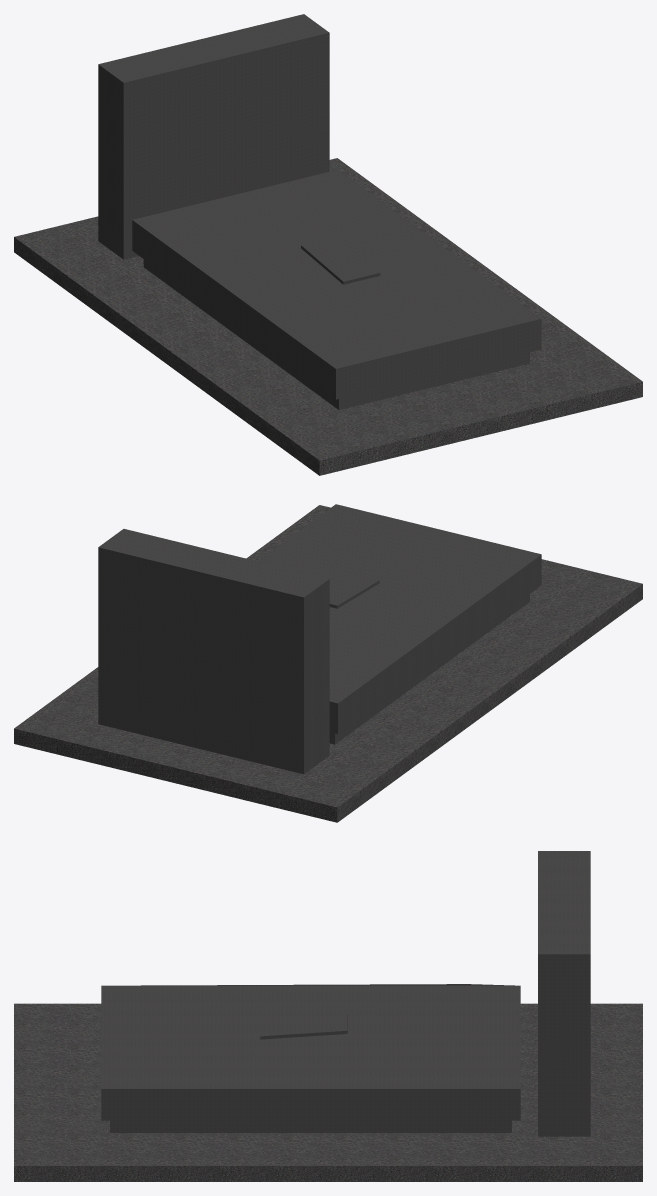
File: product8.glb
The picture shows the model from 3 angles, top to bottom: view 1: azimuth 30°, elevation 25°; view 2: azimuth 150°, elevation 25°; view 3: azimuth 270°, elevation 25°; orthographic projection. The views are drawn at different scales.
Size of what is drawn, in the model's own units: 2.2 by 1.25 by 3.6.
1 material, 1 textured.
